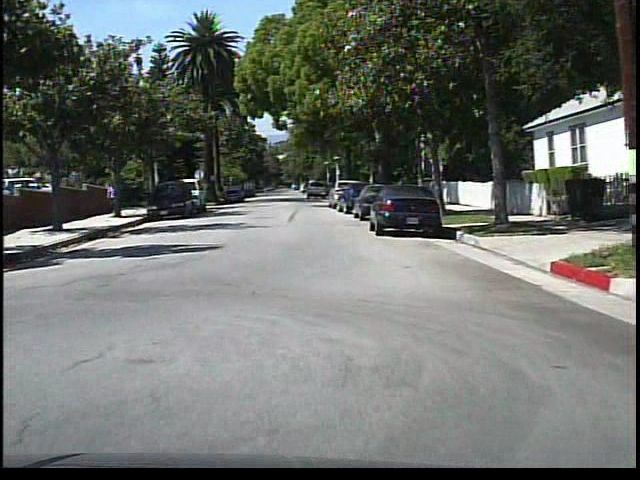person: (103, 177, 120, 216)
